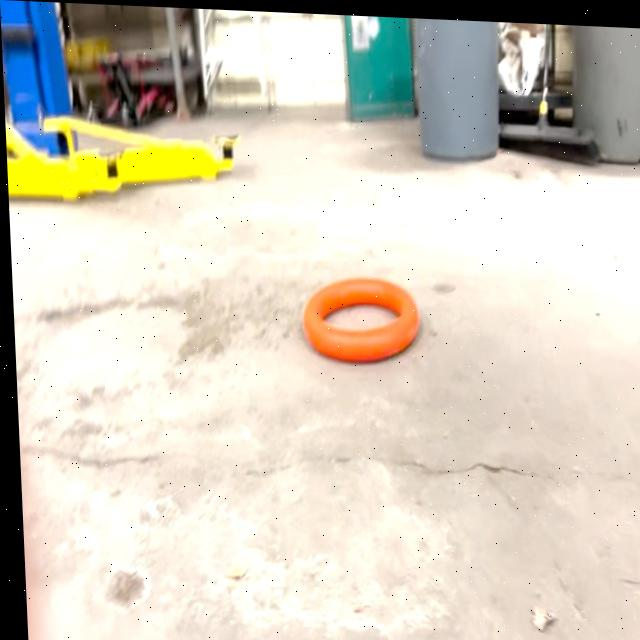note: (295, 270, 417, 365)
